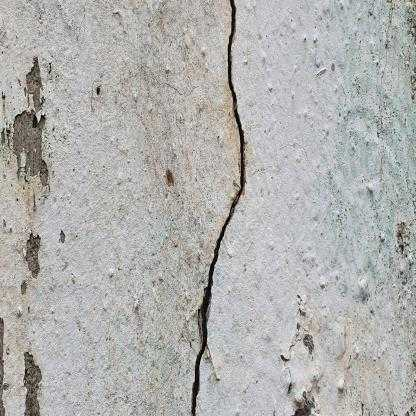crack: (190, 0, 245, 415)
